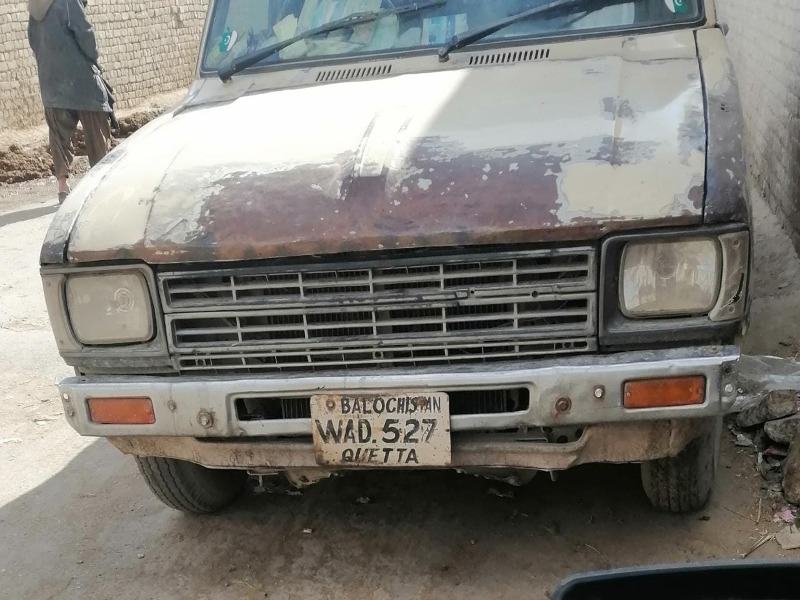License Plate: (305, 390, 456, 471)
